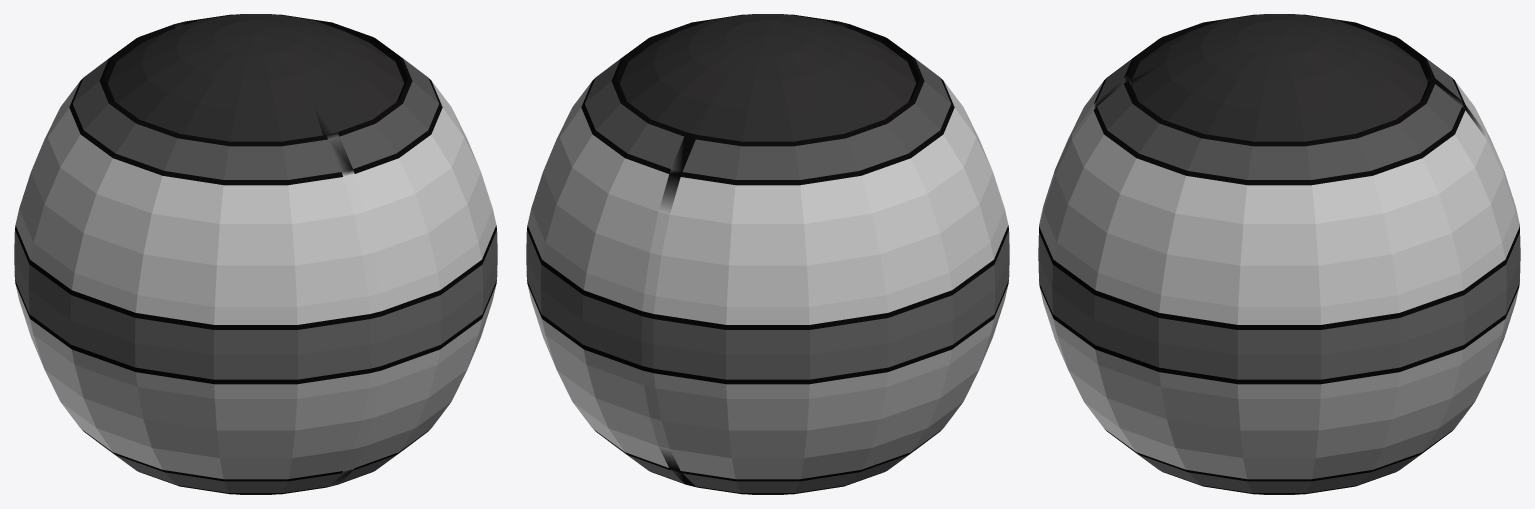
File: M_Mesh_MOb_Capsule_01.fbx
3 renders of one model, left to right at view 1: azimuth 30°, elevation 25°; view 2: azimuth 150°, elevation 25°; view 3: azimuth 270°, elevation 25°, orthographic.
Visible parts, largest first — view 1: M_Mesh_MOb_Capsule_01; view 2: M_Mesh_MOb_Capsule_01; view 3: M_Mesh_MOb_Capsule_01.
Boxes of the visible parts, x1,y1,x2,y2 form: M_Mesh_MOb_Capsule_01: (14, 14, 497, 494); M_Mesh_MOb_Capsule_01: (526, 14, 1009, 494); M_Mesh_MOb_Capsule_01: (1038, 14, 1520, 494).
Size of the model in its own units: 35.65 by 36.29 by 36.1.
